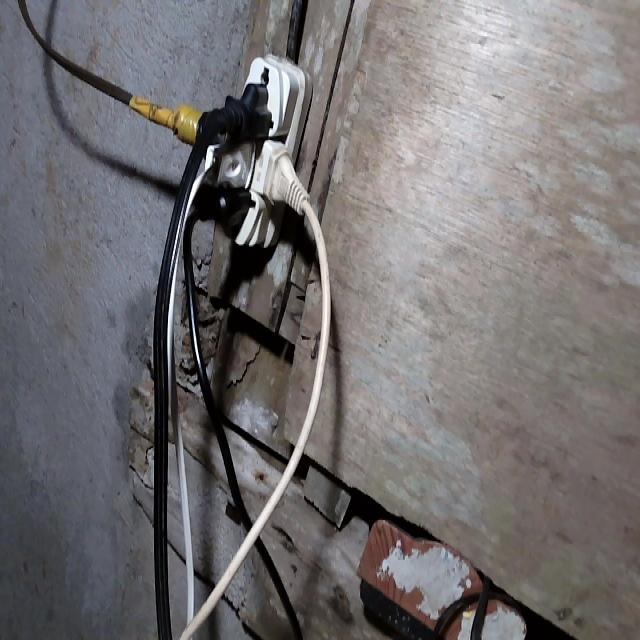-: (177, 49, 321, 251)
